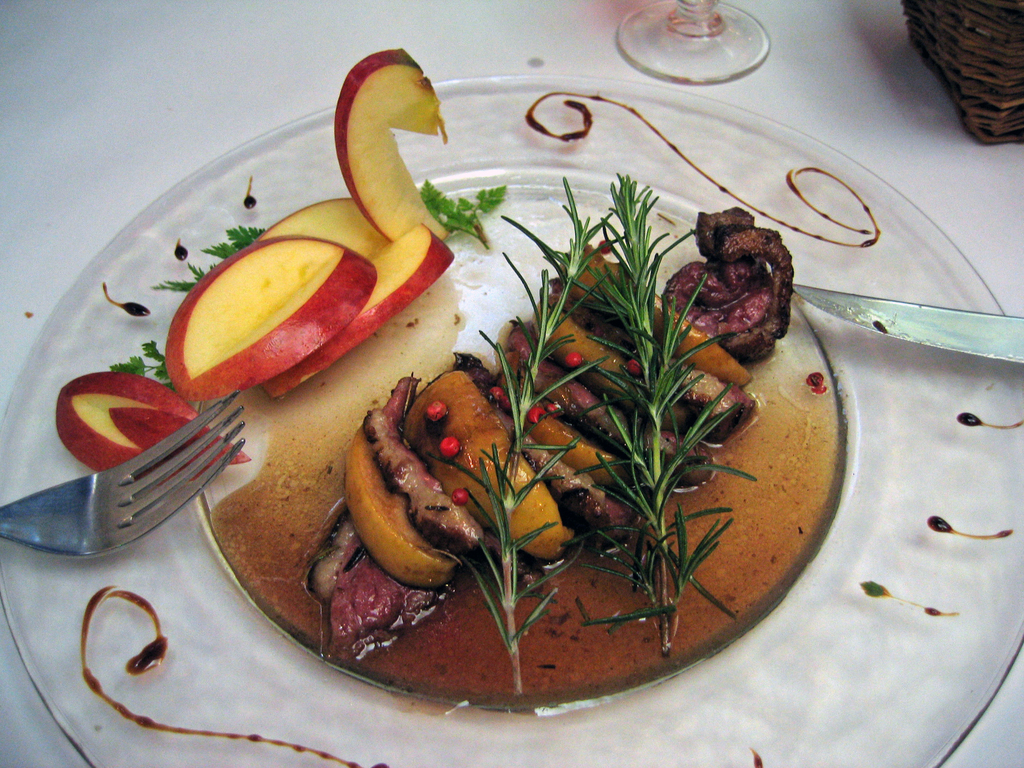Apple: (51, 190, 456, 487), (332, 46, 442, 238)
